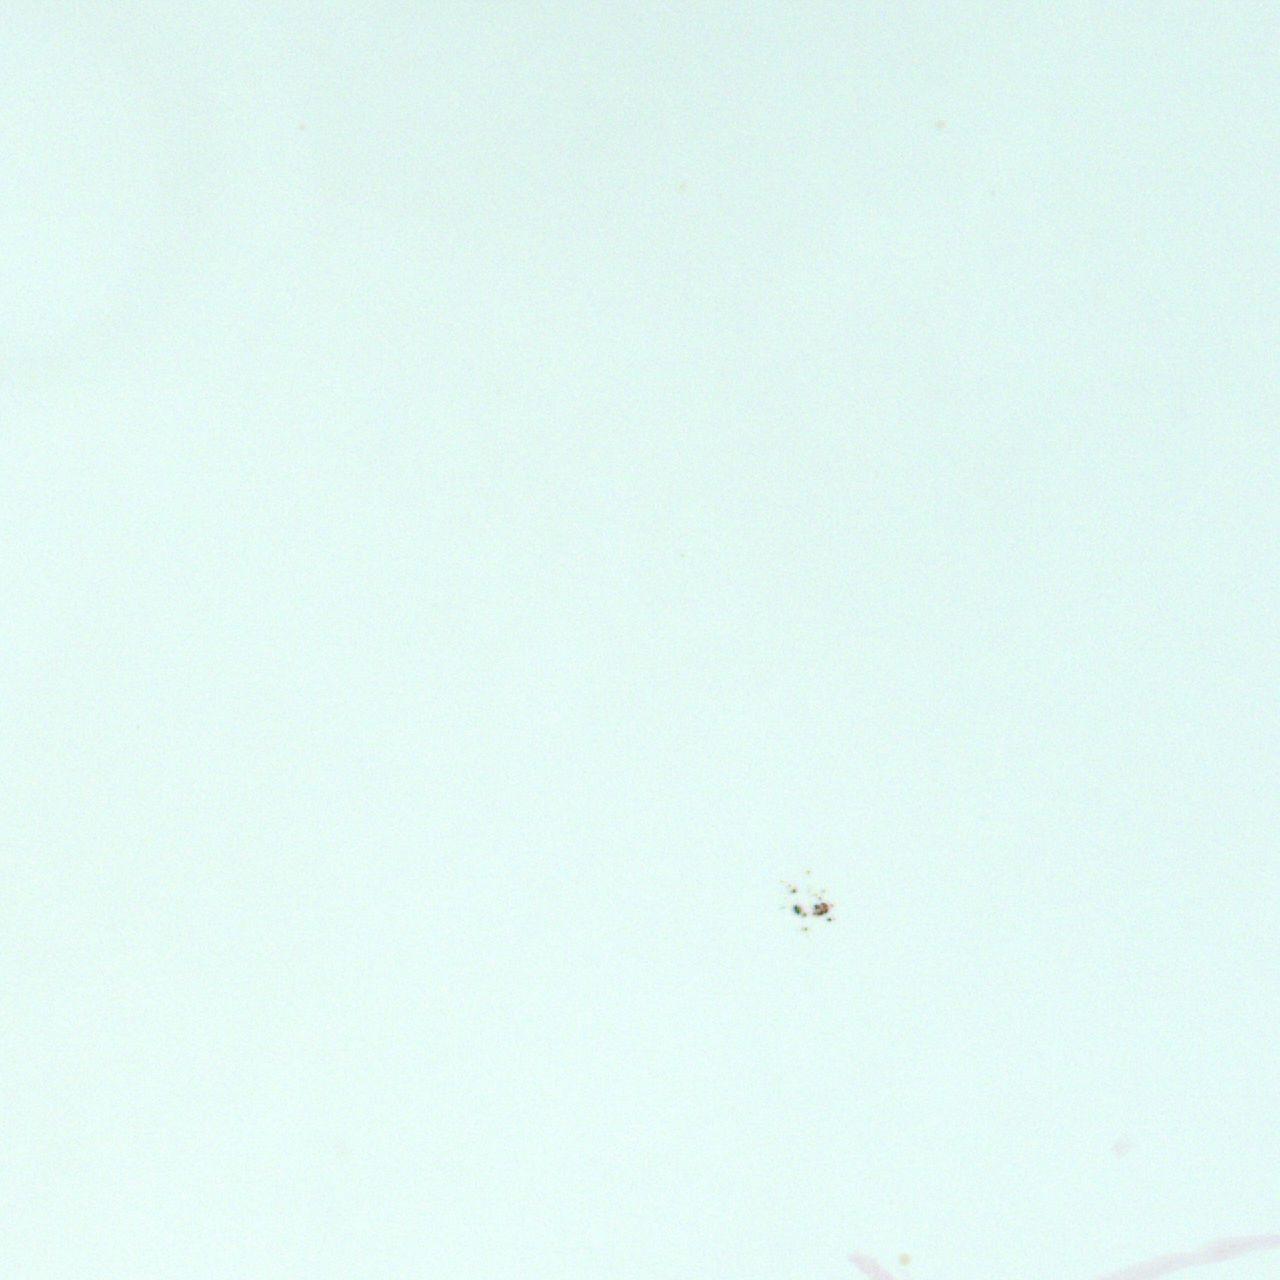dust: (812, 903, 829, 914), (791, 904, 802, 914), (826, 917, 835, 922), (790, 887, 797, 893), (802, 911, 806, 918)
